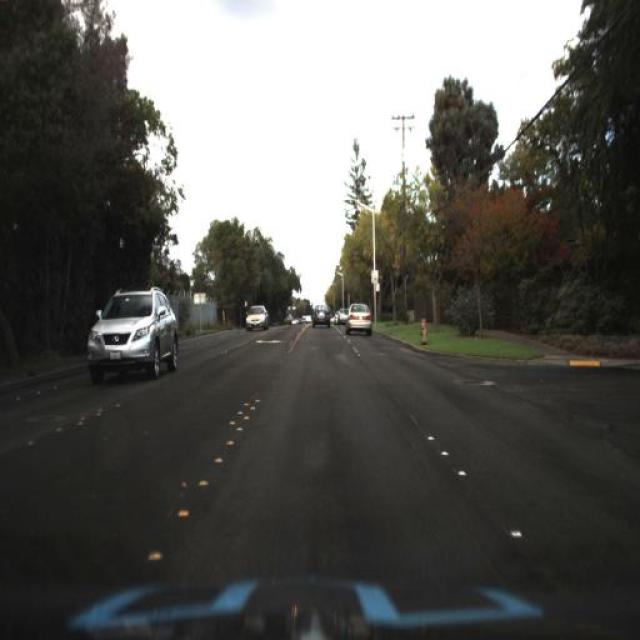car: (87, 284, 181, 388), (346, 298, 376, 338), (248, 303, 270, 332), (310, 300, 330, 330), (334, 305, 350, 324)
